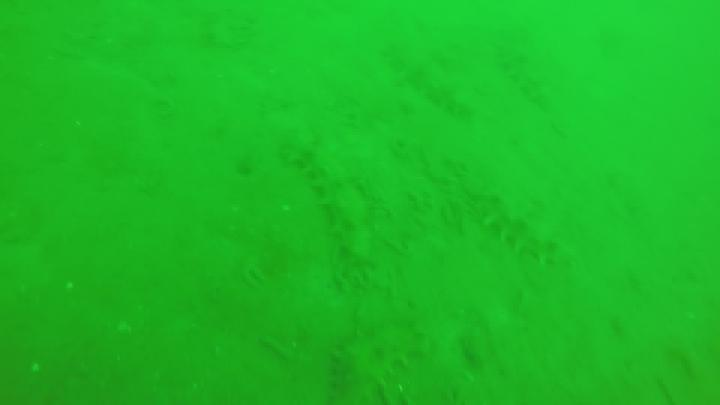holothurian: (281, 124, 374, 263), (328, 309, 436, 405), (387, 30, 480, 118), (481, 187, 579, 265), (503, 35, 554, 109)
